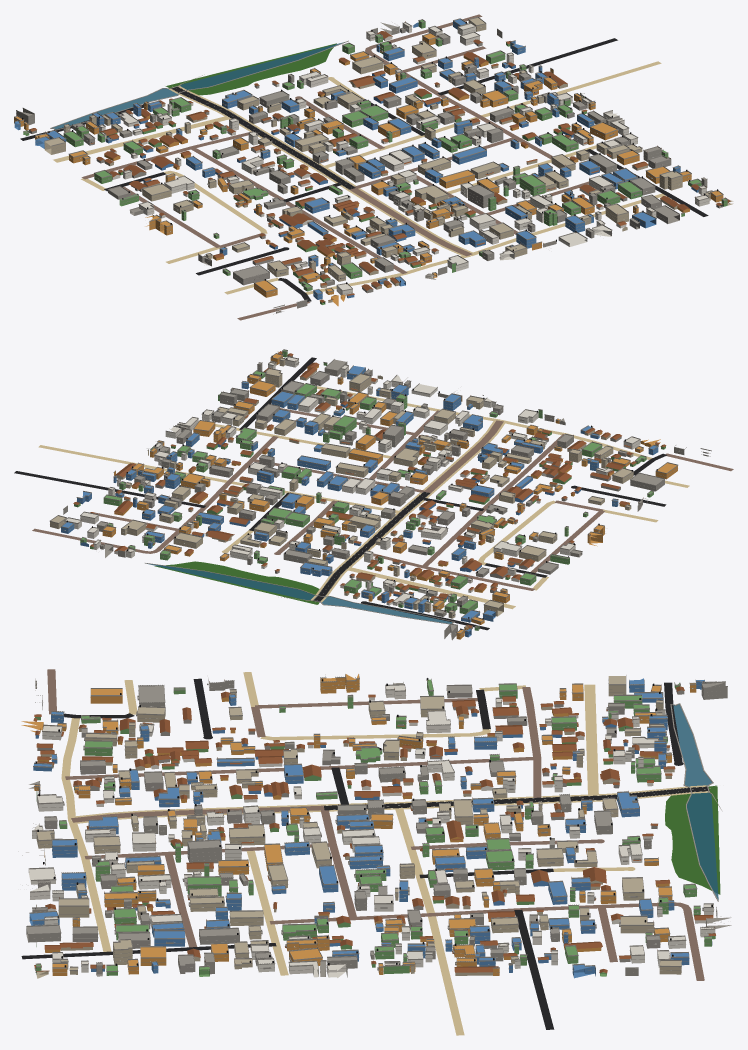
File: zone_t-5_1.glb
3 renders of one model, top to bottom at view 1: azimuth 30°, elevation 25°; view 2: azimuth 150°, elevation 25°; view 3: azimuth 270°, elevation 25°, orthographic. The views are drawn at different scales.
Parts seen in each view (by area): view 1: parapet_t-5_1, bld_peinture_ecaillee_t-5_1-col, bld_peinture_bleu_t-5_1-col, bld_beton_t-5_1-col, bld_peinture_ocre_t-5_1-col, bld_peinture_blanc_t-5_1-col, bld_peinture_vert_t-5_1-col, toit_tole_t-5_1, route_residential_paves_t-5_1, bandeau_t-5_1, route_residential_terre_t-5_1, route_residential_bitume_t-5_1 (+9 smaller); view 2: parapet_t-5_1, bld_peinture_ecaillee_t-5_1-col, bld_peinture_bleu_t-5_1-col, bld_beton_t-5_1-col, bld_peinture_blanc_t-5_1-col, bld_peinture_ocre_t-5_1-col, toit_tole_t-5_1, bld_peinture_vert_t-5_1-col, route_residential_paves_t-5_1, bandeau_t-5_1, route_residential_terre_t-5_1, route_residential_bitume_t-5_1 (+8 smaller); view 3: parapet_t-5_1, bld_peinture_ecaillee_t-5_1-col, bld_peinture_bleu_t-5_1-col, bld_beton_t-5_1-col, toit_tole_t-5_1, bld_peinture_ocre_t-5_1-col, bld_peinture_blanc_t-5_1-col, bld_peinture_vert_t-5_1-col, route_residential_paves_t-5_1, route_residential_terre_t-5_1, bandeau_t-5_1, route_residential_bitume_t-5_1 (+9 smaller).
Boxes of the visible parts, x1,y1,x2,y2 form: parapet_t-5_1: (14,17,727,308); bld_peinture_ecaillee_t-5_1-col: (44,18,733,302); bld_peinture_bleu_t-5_1-col: (14,19,698,299); bld_beton_t-5_1-col: (16,22,722,308); bld_peinture_ocre_t-5_1-col: (14,33,723,306); bld_peinture_blanc_t-5_1-col: (99,23,709,296); bld_peinture_vert_t-5_1-col: (23,20,727,304); toit_tole_t-5_1: (28,31,730,302); route_residential_paves_t-5_1: (81,14,588,320); bandeau_t-5_1: (14,24,726,314); route_residential_terre_t-5_1: (81,61,665,294); route_residential_bitume_t-5_1: (20,38,708,301); parapet_t-5_1: (49,349,711,634); bld_peinture_ecaillee_t-5_1-col: (50,351,658,618); bld_peinture_bleu_t-5_1-col: (61,366,658,637); bld_beton_t-5_1-col: (63,355,684,640); bld_peinture_blanc_t-5_1-col: (64,357,640,605); bld_peinture_ocre_t-5_1-col: (102,354,677,639); toit_tole_t-5_1: (73,351,666,627); bld_peinture_vert_t-5_1-col: (74,350,665,630); route_residential_paves_t-5_1: (32,408,733,590); bandeau_t-5_1: (50,353,710,637); route_residential_terre_t-5_1: (38,383,689,590); route_residential_bitume_t-5_1: (14,357,667,630); parapet_t-5_1: (18,674,727,972); bld_peinture_ecaillee_t-5_1-col: (36,676,681,978); bld_peinture_bleu_t-5_1-col: (29,678,712,978); bld_beton_t-5_1-col: (26,681,731,976); toit_tole_t-5_1: (33,686,715,973); bld_peinture_ocre_t-5_1-col: (21,674,696,975); bld_peinture_blanc_t-5_1-col: (28,685,715,977); bld_peinture_vert_t-5_1-col: (35,679,715,976); route_residential_paves_t-5_1: (47,669,704,980); route_residential_terre_t-5_1: (61,672,635,1035); bandeau_t-5_1: (22,681,727,973); route_residential_bitume_t-5_1: (21,678,683,1029).
Bounding box in the file's own units: 636 × 14 × 528.
